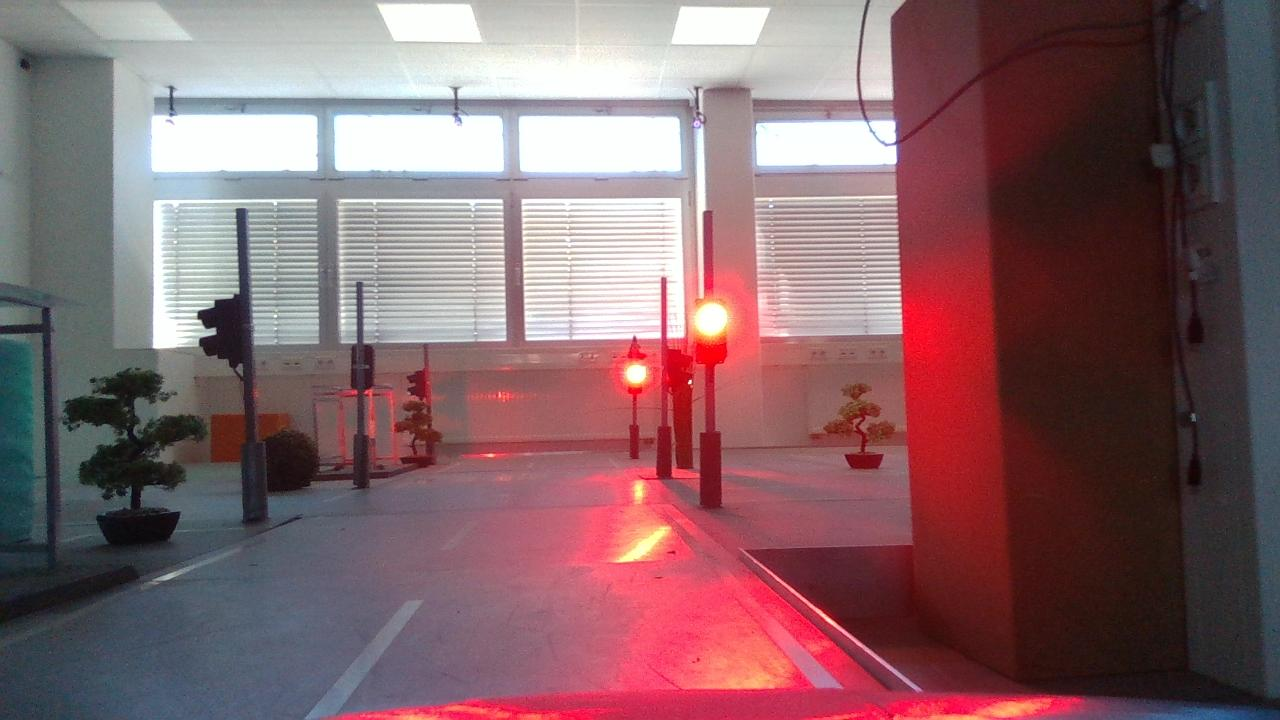traffic_light_red: (686, 290, 740, 374)
